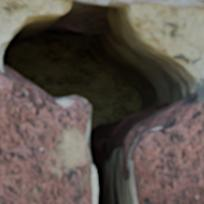brick: (78, 0, 203, 8)
broken_brick: (0, 69, 93, 203), (135, 100, 203, 203)
crack: (2, 0, 201, 203)
